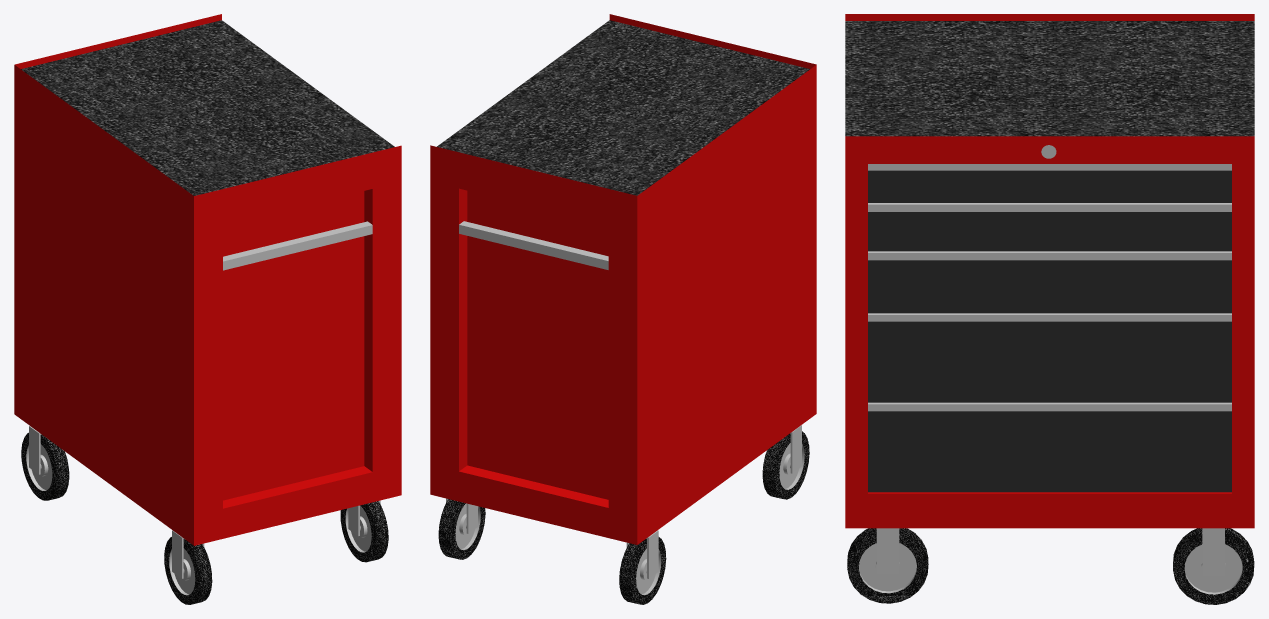
3 views of the same model, side by side, from view 1: azimuth 30°, elevation 25°; view 2: azimuth 150°, elevation 25°; view 3: azimuth 270°, elevation 25° (orthographic). The views are drawn at different scales.
Parts seen in each view (by area): view 1: SketchUp (×5), Wheel1 (×7); view 2: SketchUp (×6), Wheel1 (×5); view 3: SketchUp (×14), Wheel1 (×6).
Part boxes in pixels (x1,y1,x2,y2): SketchUp (×5): (14,14,401,545); Wheel1 (×7): (21,432,388,604); SketchUp (×6): (430,14,816,544); Wheel1 (×5): (438,431,809,604); SketchUp (×14): (845,14,1254,528); Wheel1 (×6): (847,528,1254,604).
Size of the model in its own units: 18 by 27 by 35.
